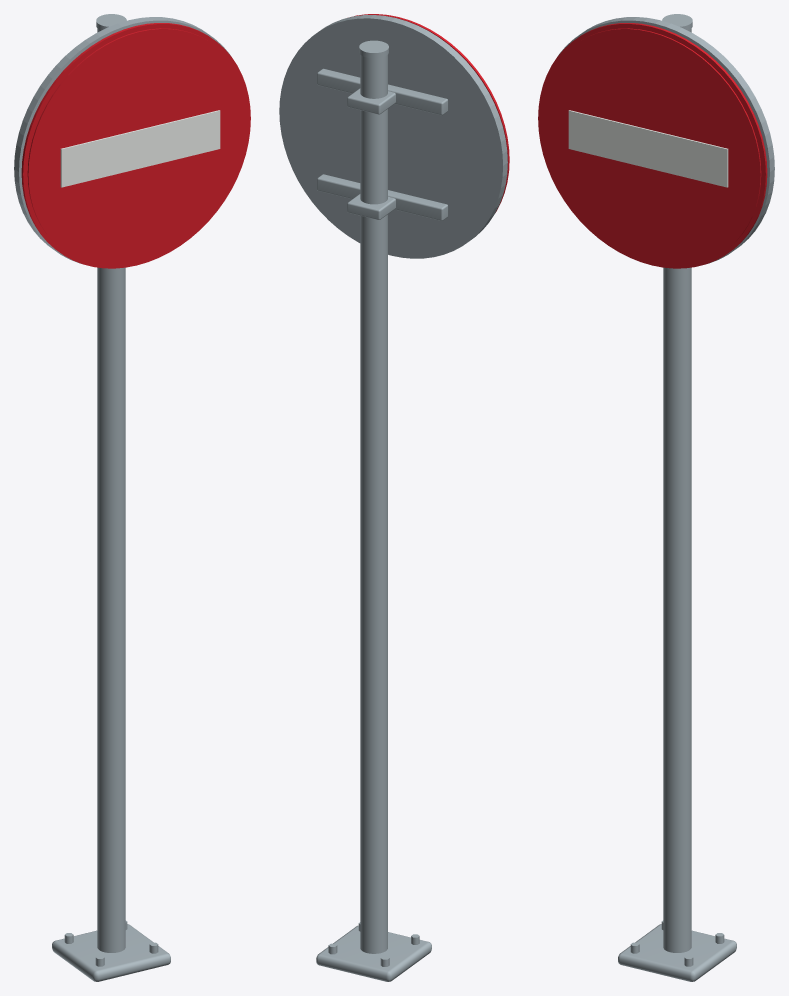
Rendered from DS_Sign_NoEntry.fbx.
3 views of the same model, side by side, from view 1: azimuth 30°, elevation 25°; view 2: azimuth 150°, elevation 25°; view 3: azimuth 330°, elevation 25° (orthographic). The views are drawn at different scales.
Parts seen in each view (by area): view 1: Face_Field.006, Post.006, NoEntryBar, BasePlate.006, Face_Border.006, Plate_Back.006; view 2: Plate_Back.006, Post.006, BasePlate.006, RearRail.013, RearRail.012, PostClamp.013, PostClamp.012, Face_Border.006; view 3: Face_Field.006, Post.006, NoEntryBar, BasePlate.006, Face_Border.006, Plate_Back.006.
Boxes of the visible parts, box(x1,y1,x2,y2) form: Face_Field.006: box(27, 28, 249, 266); Post.006: box(97, 28, 125, 952); NoEntryBar: box(60, 110, 220, 187); BasePlate.006: box(52, 924, 170, 981); Face_Border.006: box(21, 23, 250, 268); Plate_Back.006: box(14, 17, 230, 263); Plate_Back.006: box(279, 15, 507, 258); Post.006: box(360, 55, 387, 953); BasePlate.006: box(316, 925, 431, 981); RearRail.013: box(317, 68, 448, 115); RearRail.012: box(317, 174, 448, 220); PostClamp.013: box(347, 88, 395, 114); PostClamp.012: box(347, 194, 395, 219); Face_Border.006: box(354, 14, 509, 212); Face_Field.006: box(539, 28, 761, 266); Post.006: box(663, 28, 691, 952); NoEntryBar: box(568, 110, 728, 187); BasePlate.006: box(618, 924, 736, 981); Face_Border.006: box(538, 23, 767, 268); Plate_Back.006: box(558, 17, 774, 263).
Bounding box in the file's own units: 71 × 281 × 27.7.
